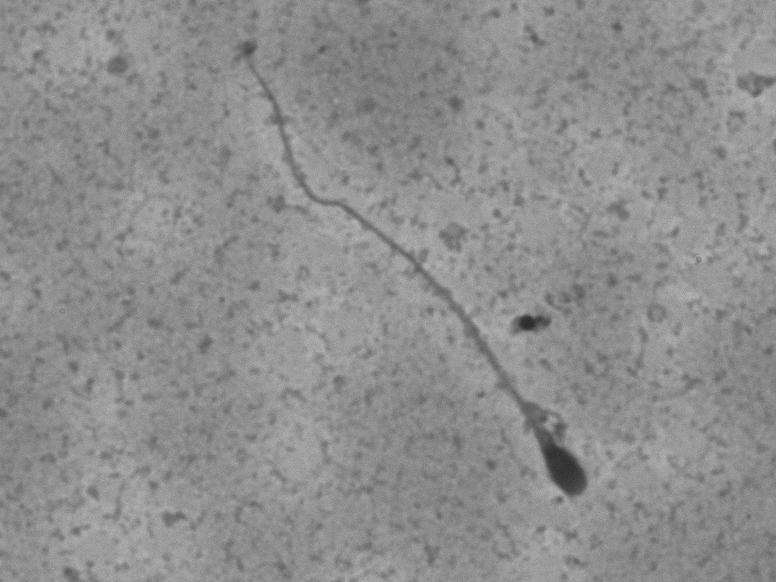Abnormal: (282, 108, 652, 559)
